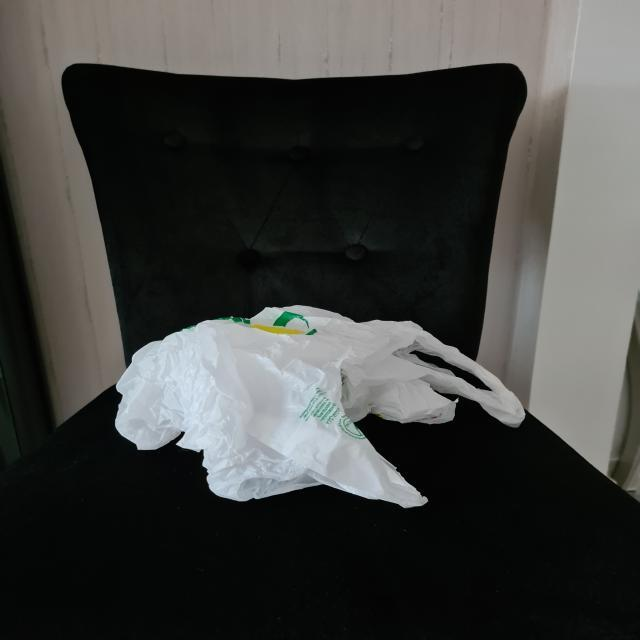plastic: (112, 303, 529, 506)
